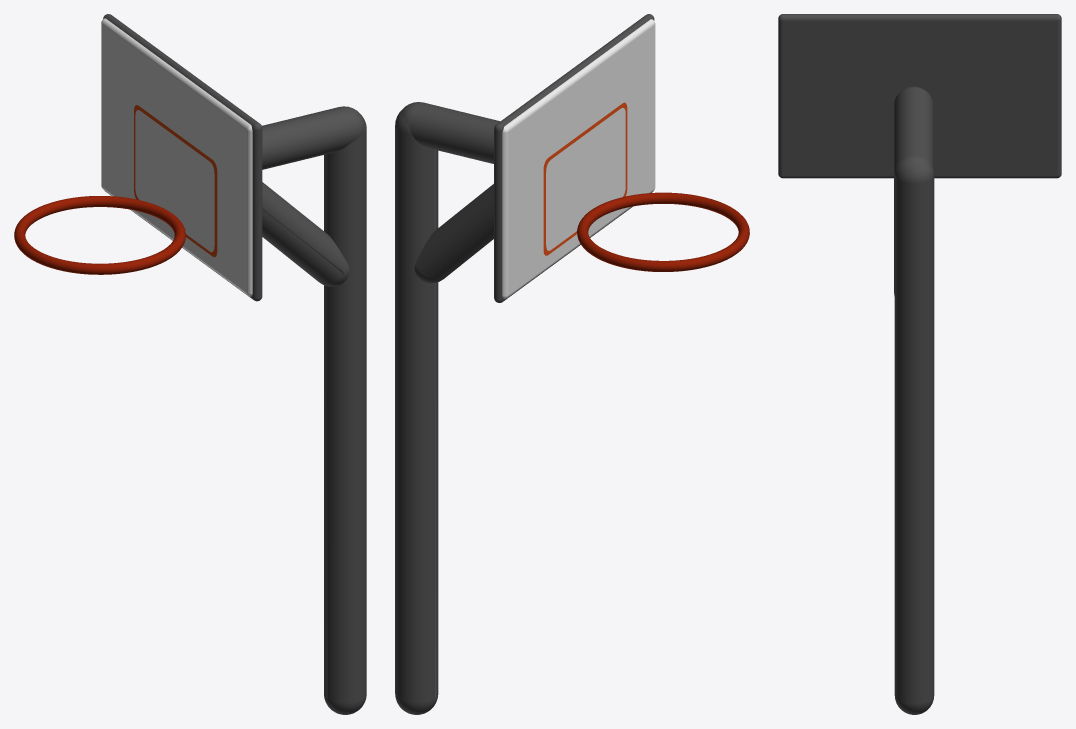
Rendered from basketball-hoop.glb.
3 views of the same model, side by side, from view 1: azimuth 30°, elevation 25°; view 2: azimuth 150°, elevation 25°; view 3: azimuth 270°, elevation 25° (orthographic). The views are drawn at different scales.
Parts seen in each view (by area): view 1: Cylinder, Cube 2, Rectangle 2, Cylinder 3, Torus, Cylinder 2, Cube.010, Rectangle; view 2: Cylinder, Cube 2, Rectangle 2, Torus, Cylinder 3, Cylinder 2, Cube.010, Rectangle; view 3: Cube.010, Cylinder, Cylinder 2.
Boxes of the visible parts, left/top/right/bottom form: Cylinder: left=324, top=117, right=366, bottom=714; Cube 2: left=101, top=18, right=252, bottom=296; Rectangle 2: left=135, top=110, right=214, bottom=252; Cylinder 3: left=262, top=182, right=349, bottom=286; Torus: left=14, top=196, right=185, bottom=274; Cylinder 2: left=262, top=106, right=364, bottom=169; Cube.010: left=103, top=14, right=262, bottom=301; Rectangle: left=134, top=105, right=217, bottom=256; Cylinder: left=395, top=109, right=438, bottom=714; Cube 2: left=502, top=19, right=655, bottom=298; Rectangle 2: left=546, top=108, right=625, bottom=250; Torus: left=577, top=192, right=749, bottom=271; Cylinder 3: left=414, top=184, right=493, bottom=283; Cylinder 2: left=402, top=102, right=499, bottom=163; Cube.010: left=494, top=14, right=654, bottom=302; Rectangle: left=543, top=102, right=627, bottom=255; Cube.010: left=778, top=14, right=1061, bottom=178; Cylinder: left=894, top=166, right=934, bottom=714; Cylinder 2: left=894, top=86, right=933, bottom=178.
Size of the model in its own units: 1.1 by 2.13 by 0.8715.
